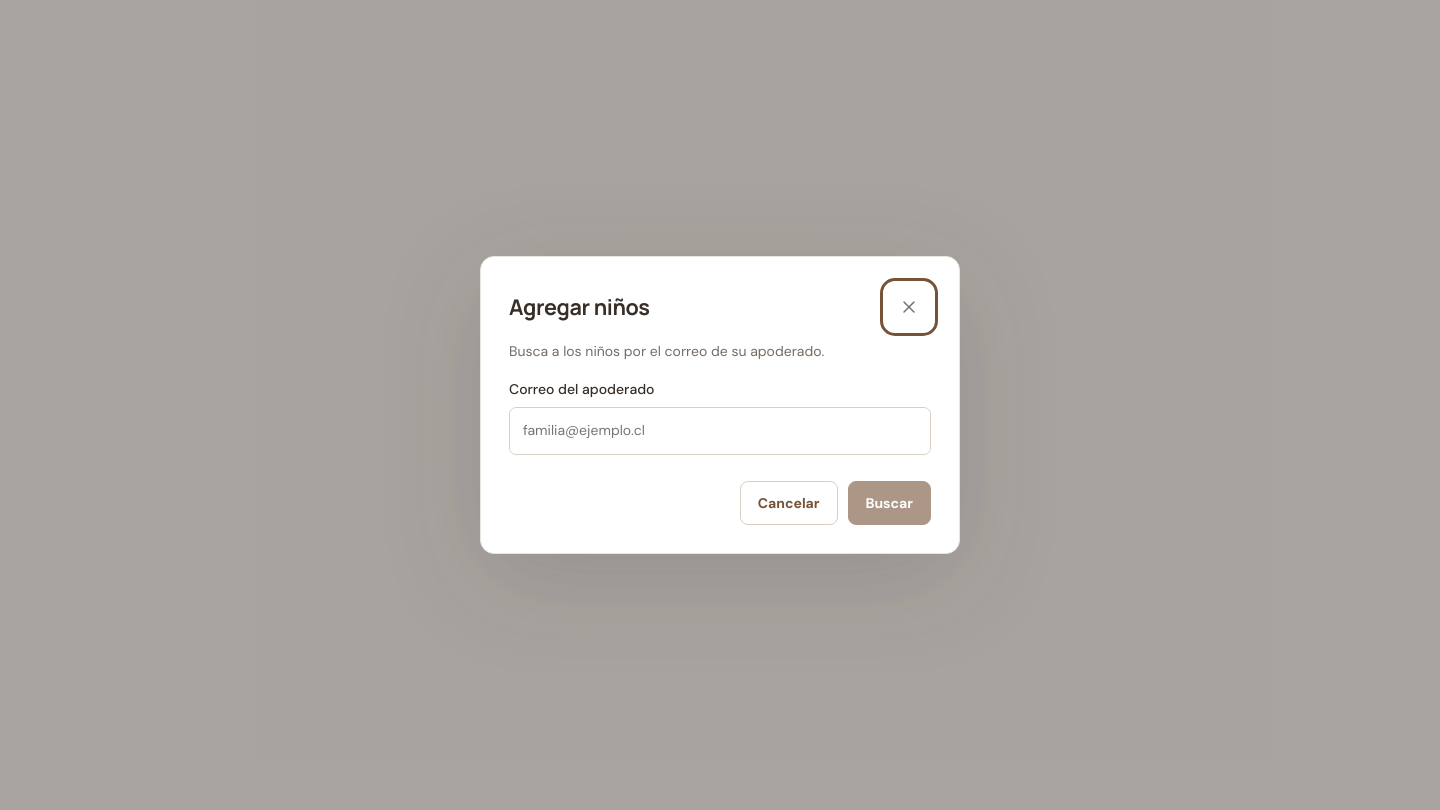
Test case: agregar por correo con el adaptador real › muestra errores 400 junto al campo de correo
The image size is (1440, 810).
In the field labelled "Correo del apoderado": coordinates (720, 431) [509,407,931,455], type "FAMILIA@example.com"
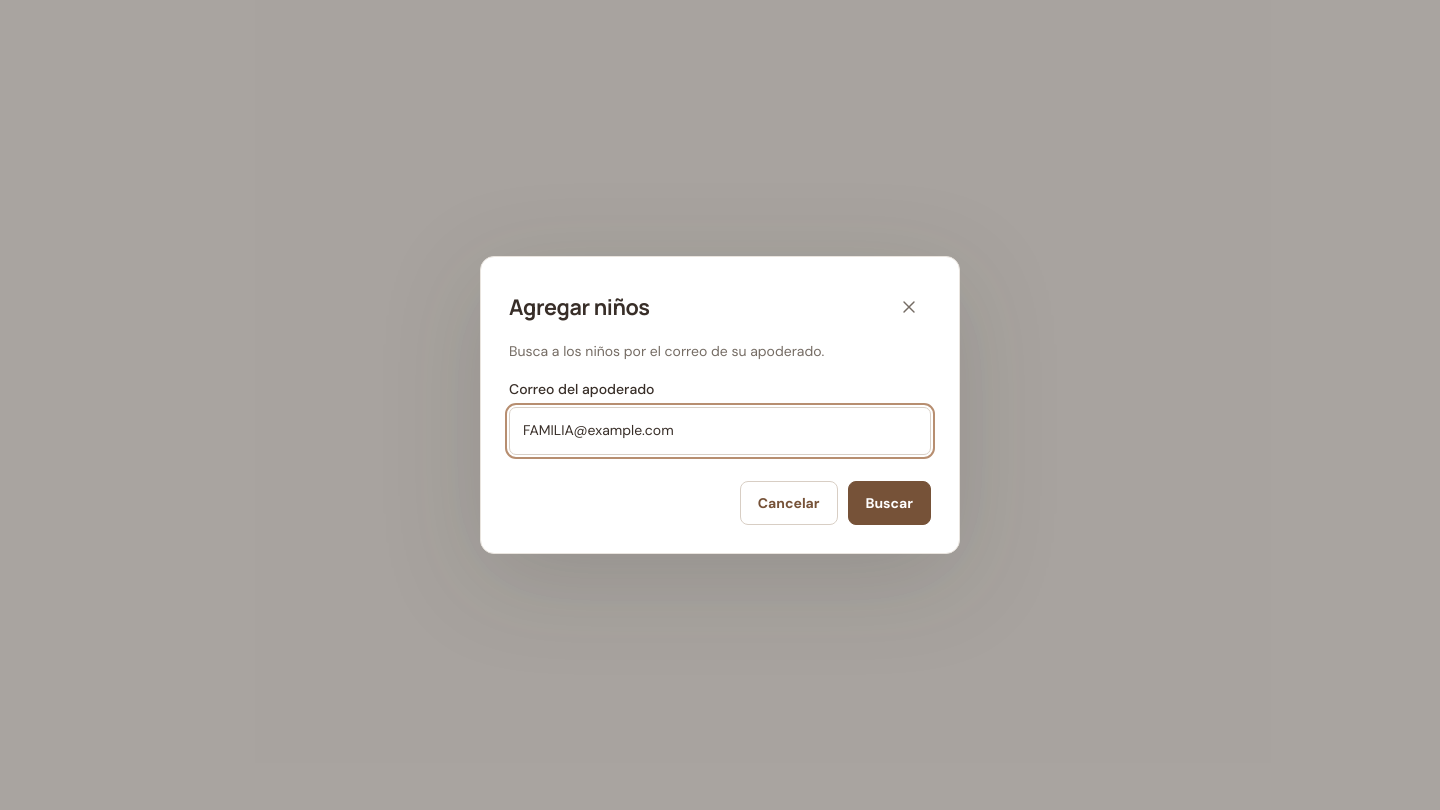
Click the button "Buscar": coordinates (889, 503) [848,481,931,525]
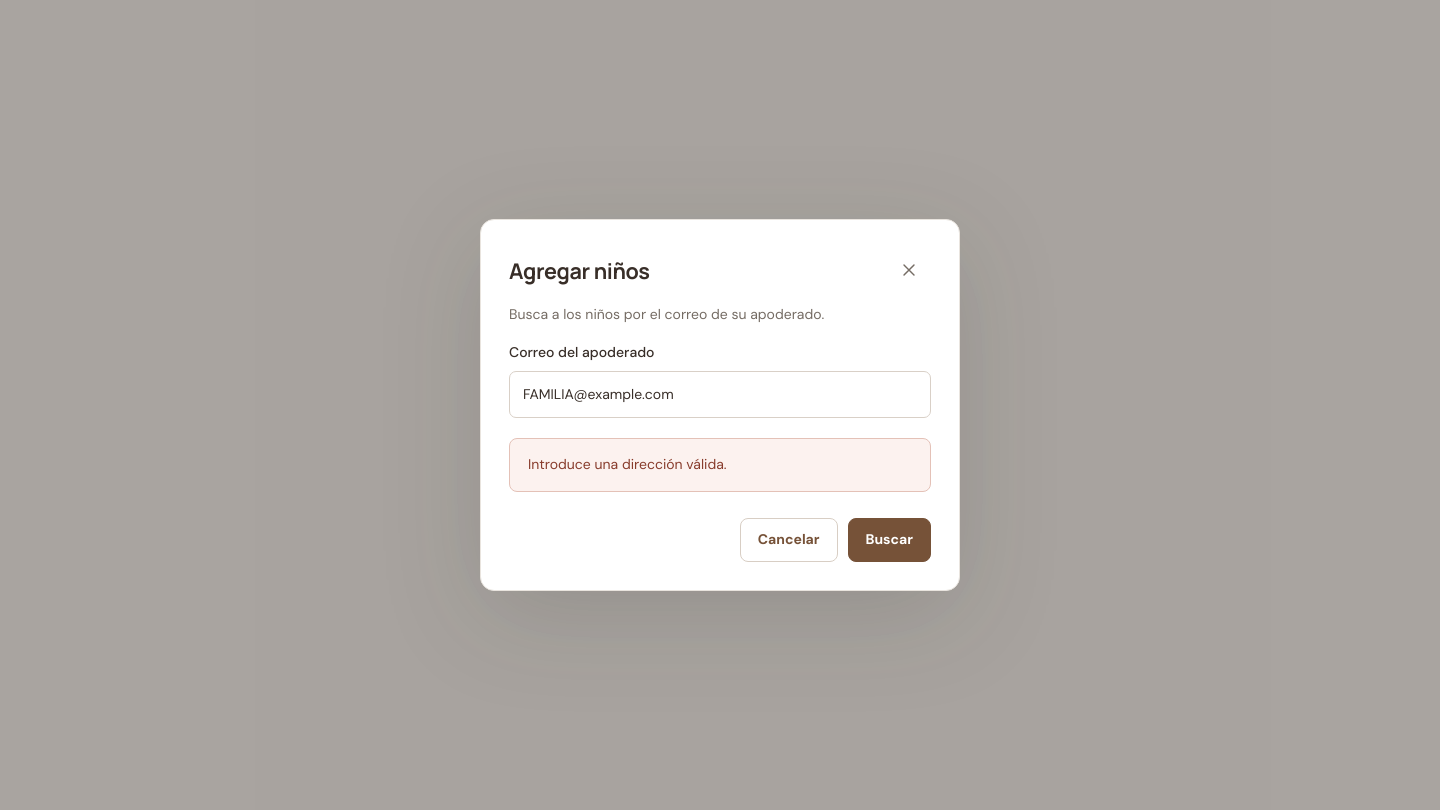
Expected: the message reads "Introduce una dirección válida.", [528,455,727,473]
